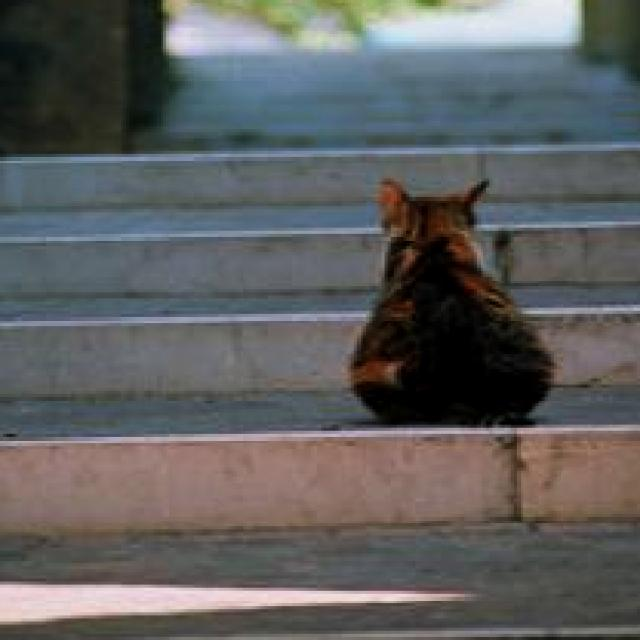upstair: (1, 229, 640, 515)
